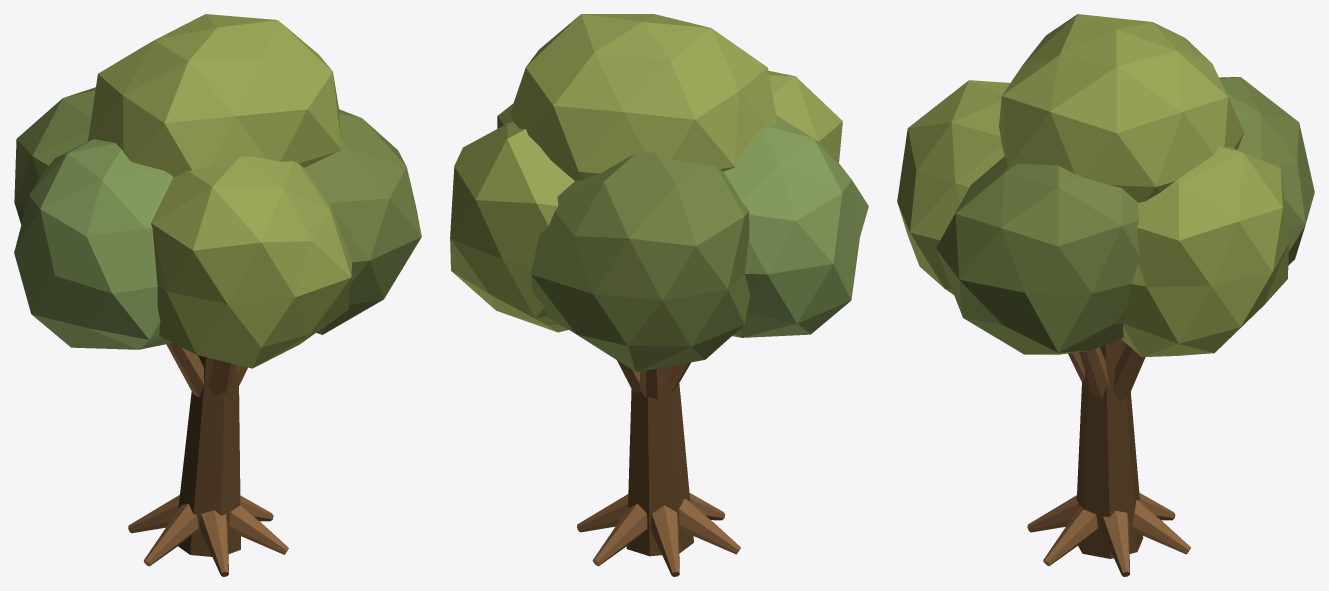
File: SM_Oak_03.fbx
3 renders of one model, left to right at view 1: azimuth 30°, elevation 25°; view 2: azimuth 150°, elevation 25°; view 3: azimuth 270°, elevation 25°, orthographic. The views are drawn at different scales.
Visible parts, largest first — view 1: SM_Oak_03; view 2: SM_Oak_03; view 3: SM_Oak_03.
Boxes of the visible parts, x1,y1,x2,y2 form: SM_Oak_03: (14, 14, 421, 576); SM_Oak_03: (450, 14, 868, 576); SM_Oak_03: (897, 14, 1314, 576).
Size of the model in its own units: 5.66 by 5.72 by 7.87.
